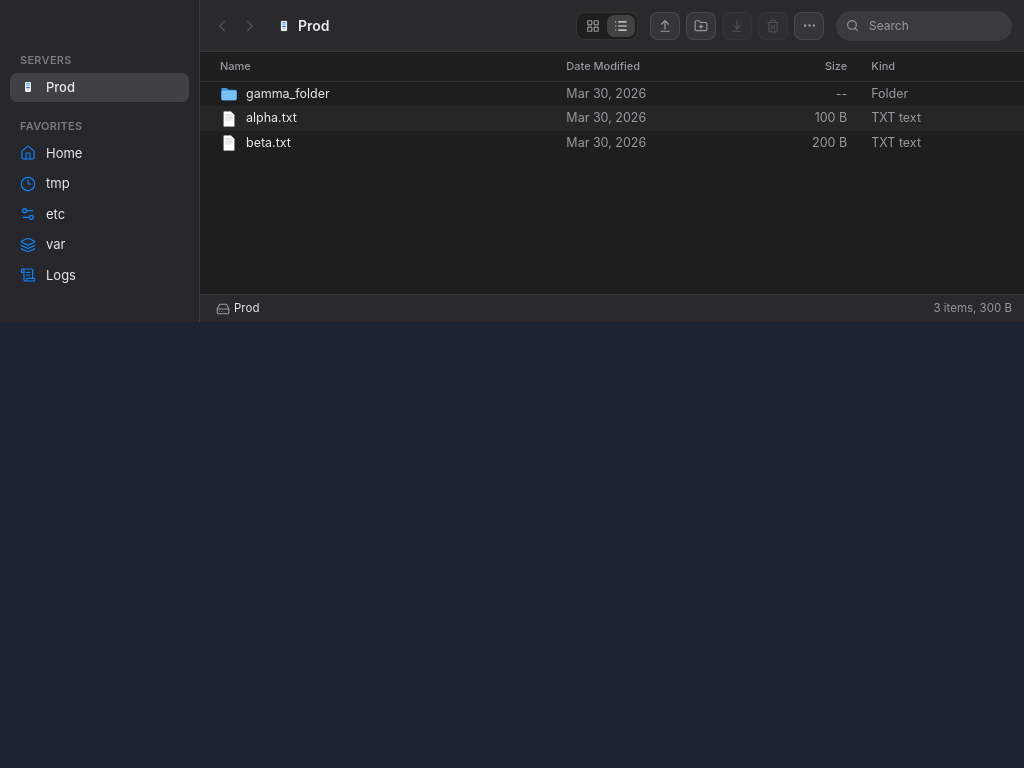
FilesApp multi-select › moves cut items and empties the clipboard
The image size is (1024, 768).
Right-click the text "beta.txt" at (268, 143), box [246,134,291,153]
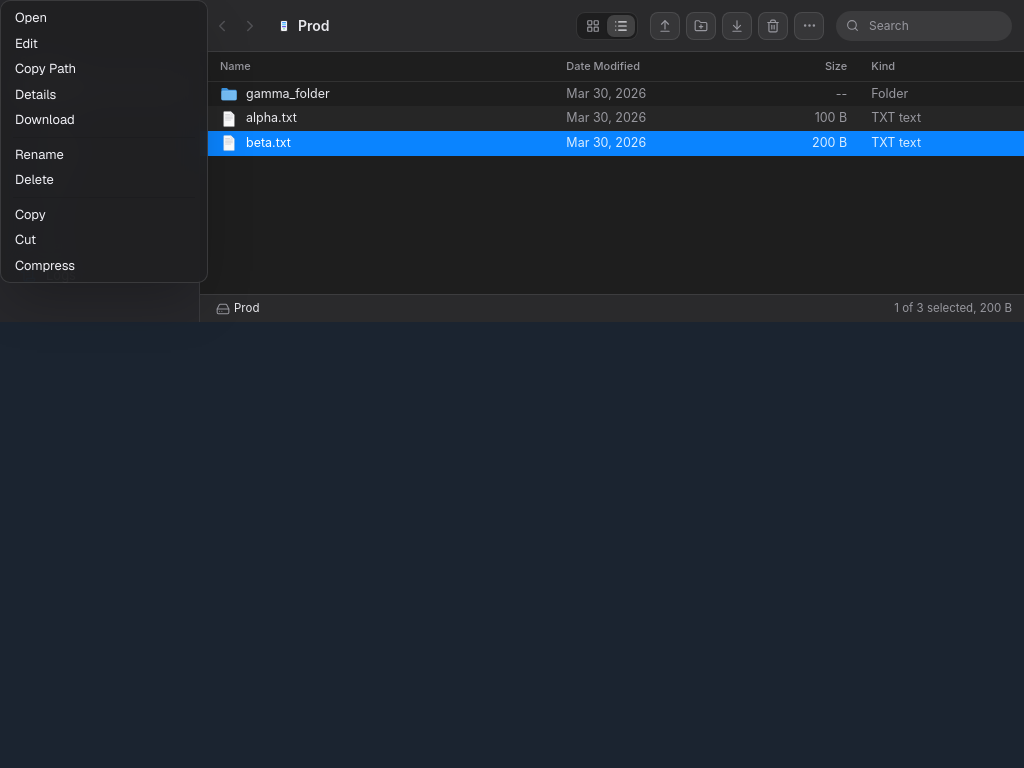
Click the menu item "Cut". click: (104, 240)
box: [5,227,203,252]
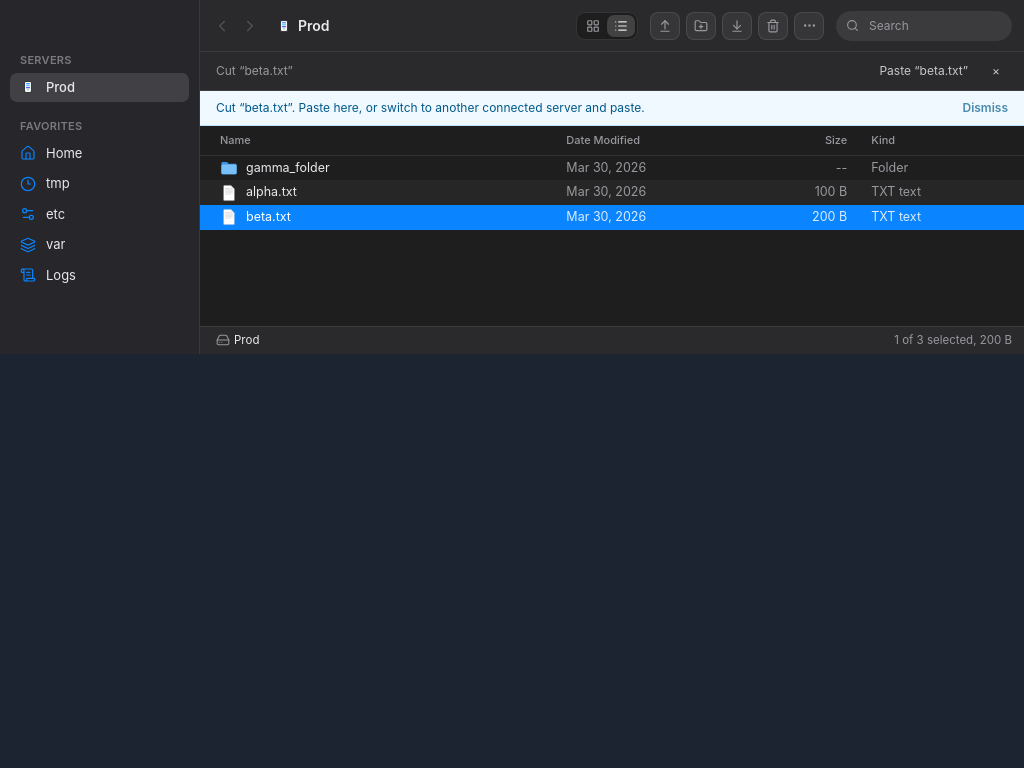
Check: the button "Paste “beta.txt”" is shown, box [871,58,976,84]
Press the mouse on the text "alpha.txt" at (612, 193), box [200,180,1023,205]
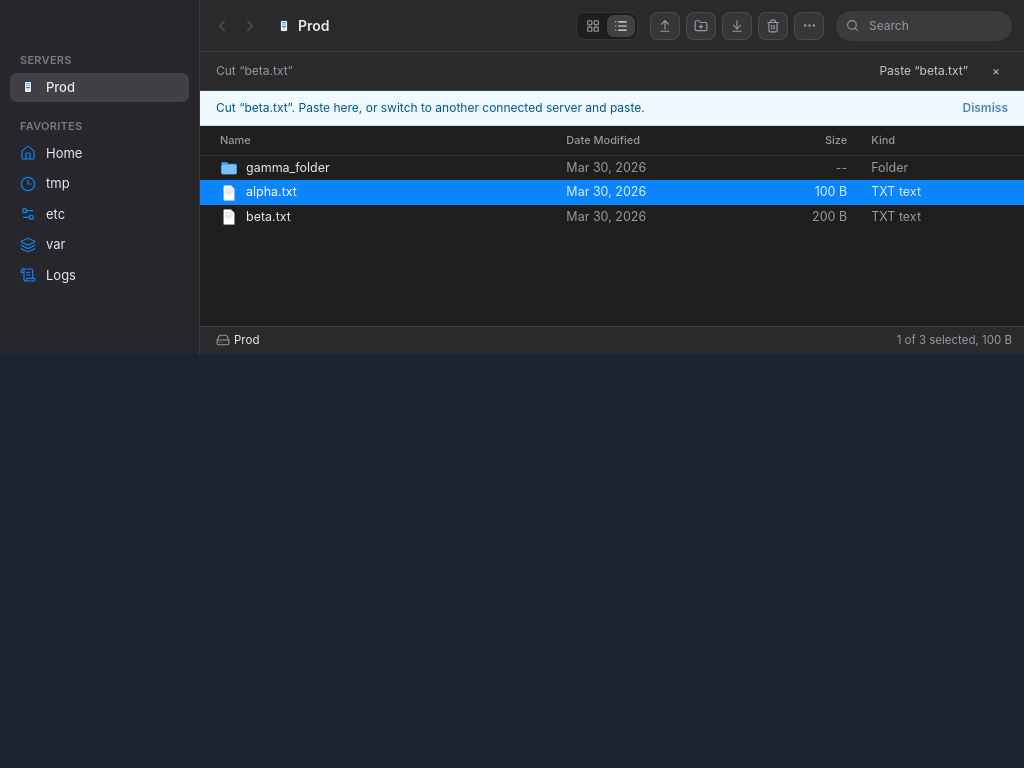
Press v in the text "alpha.txt", box [200,180,1023,205]
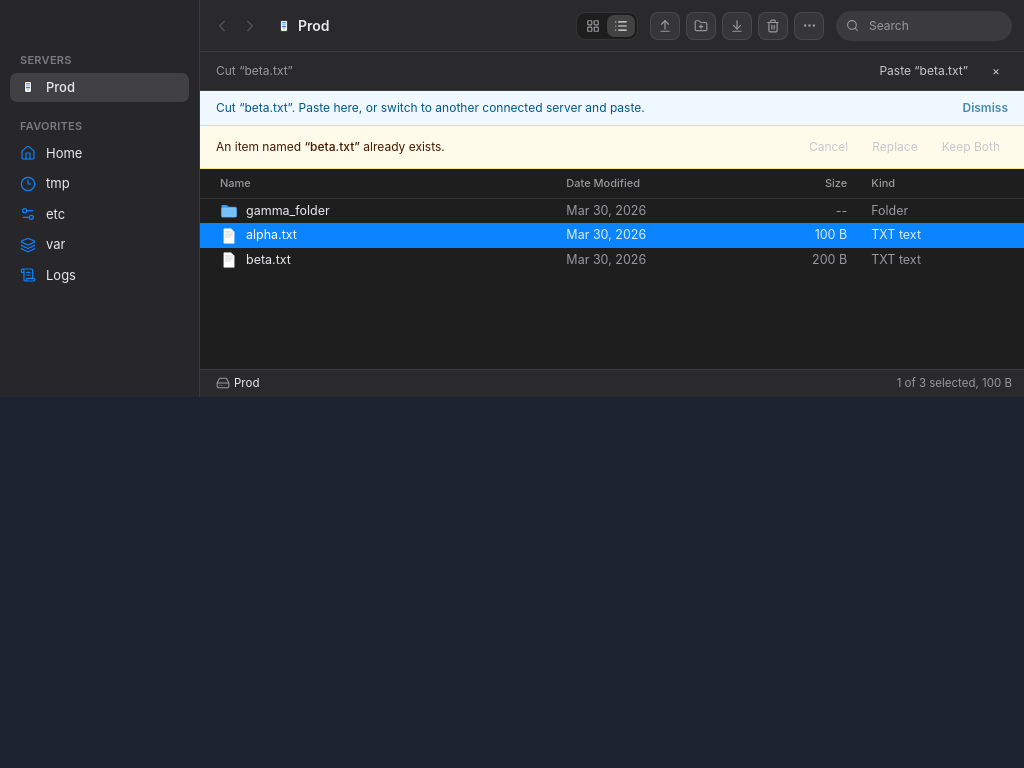
Click the button "Replace". click: (895, 147)
box: [864,134,926,160]
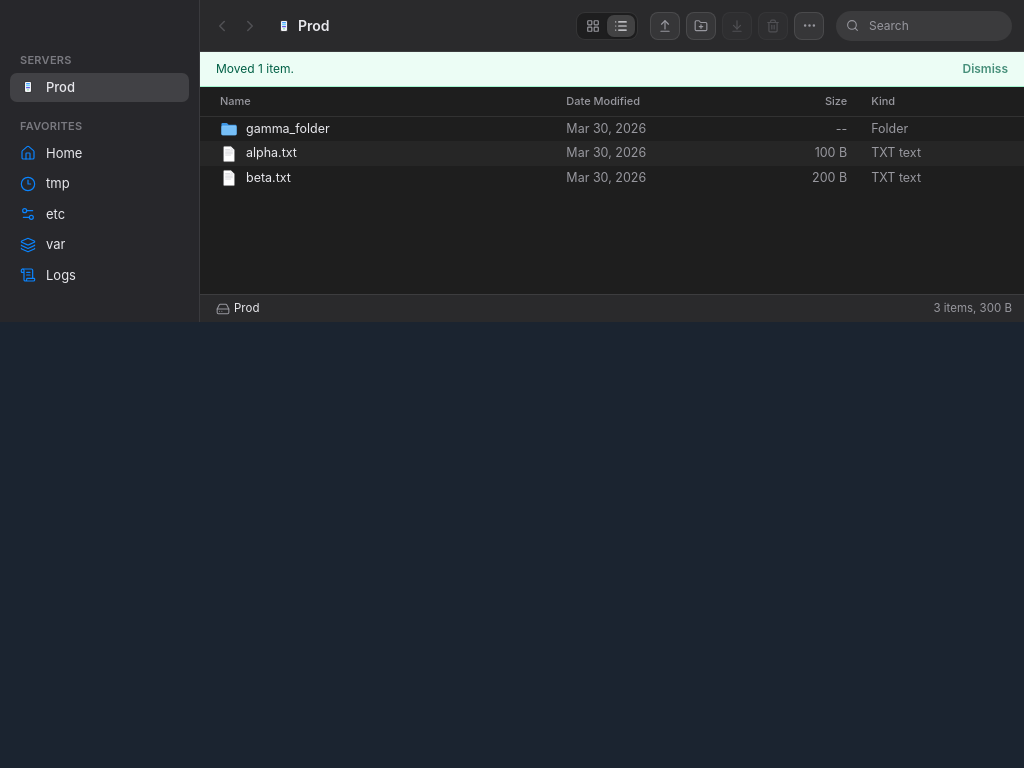
Check: the button "Paste" is gone
